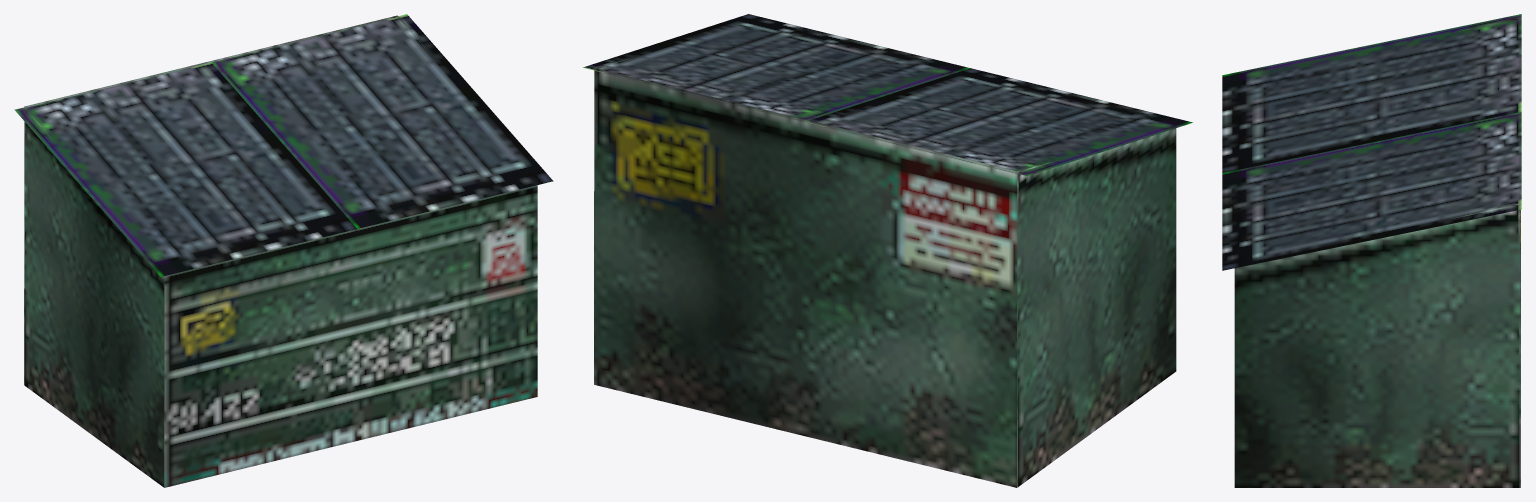
The model's file is Environment - Prop - Dumpster - PEDumpst.glb.
The picture shows the model from 3 angles, left to right: view 1: azimuth 30°, elevation 25°; view 2: azimuth 150°, elevation 25°; view 3: azimuth 270°, elevation 25°; orthographic projection. The views are drawn at different scales.
Parts seen in each view (by area): view 1: PEDUMPST; view 2: PEDUMPST; view 3: PEDUMPST.
Part boxes in pixels (x1,y1,x2,y2): PEDUMPST: (14,14,553,487); PEDUMPST: (583,14,1192,487); PEDUMPST: (1222,14,1521,487).
Size of the model in its own units: 18.13 by 12.31 by 11.72.
Materials: 1 (1 with a texture image).
